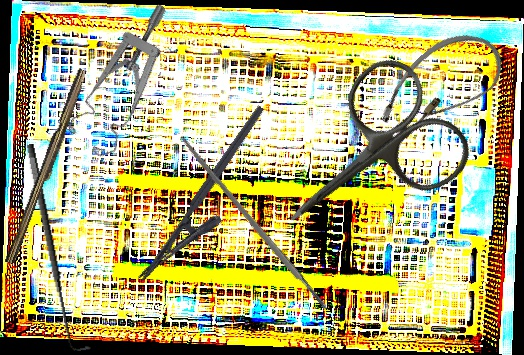Cannula: (367, 14, 515, 159)
Hook Surgical: (23, 140, 92, 355)
Iris Scissors: (245, 46, 483, 275)
Needle Holder: (136, 104, 289, 300)
Scalpel Handle: (177, 133, 330, 314), (4, 67, 91, 267)
Speculum: (42, 2, 215, 166)
